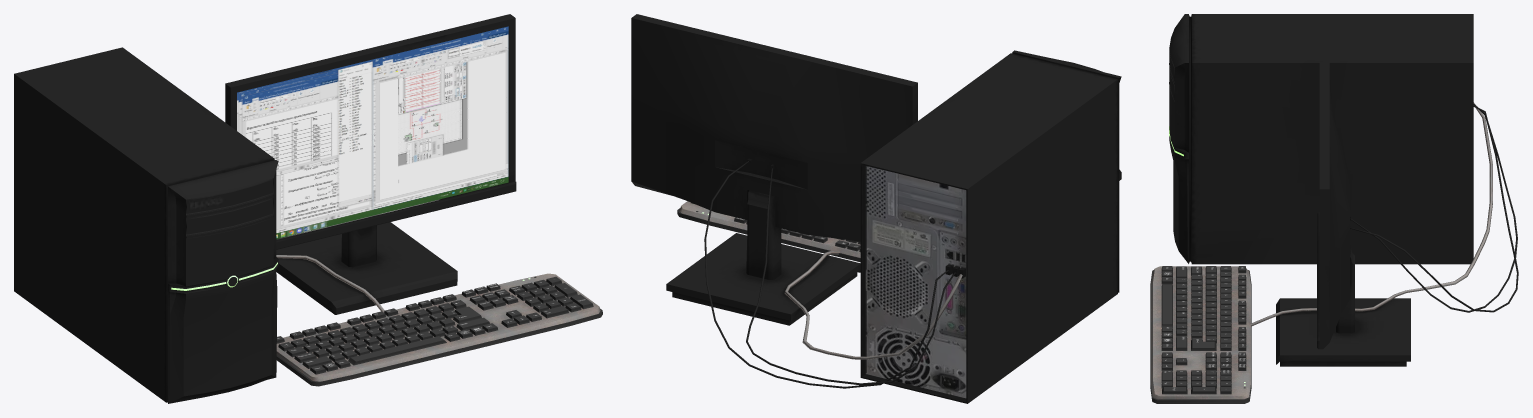
File: computer-transformed.glb
3 views of the same model, side by side, from view 1: azimuth 30°, elevation 25°; view 2: azimuth 150°, elevation 25°; view 3: azimuth 270°, elevation 25° (orthographic). The views are drawn at different scales.
Visible parts, largest first — view 1: Cube_PC_0, Cube_Screen_0, Cube_Keyboard_0; view 2: Cube_PC_0, Cube_Keyboard_0; view 3: Cube_PC_0, Cube_Keyboard_0.
Boxes of the visible parts, x1,y1,x2,y2 form: Cube_PC_0: [14, 14, 516, 403]; Cube_Screen_0: [237, 26, 508, 238]; Cube_Keyboard_0: [276, 255, 602, 386]; Cube_PC_0: [631, 14, 1121, 403]; Cube_Keyboard_0: [677, 201, 962, 359]; Cube_PC_0: [1169, 14, 1518, 366]; Cube_Keyboard_0: [1150, 102, 1492, 403].
Bounding box in the file's own units: 1.36 × 0.7227 × 1.12.
4 materials, 3 textured.
